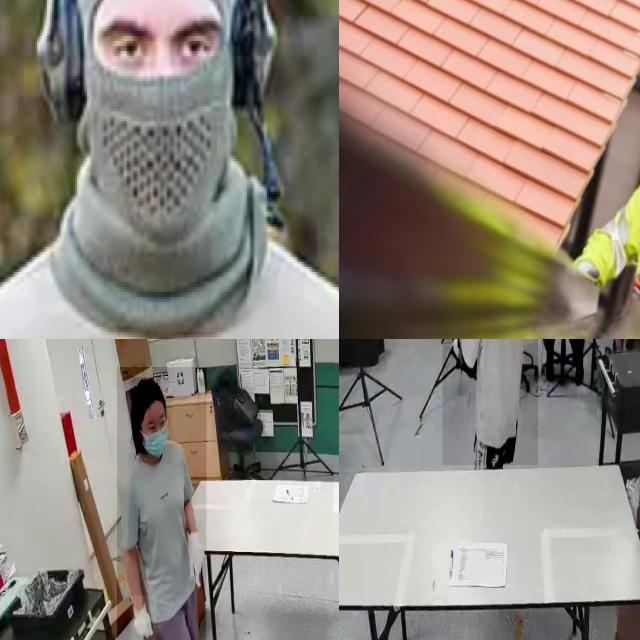Ear-protection: (35, 0, 283, 168)
face_mask: (141, 402, 172, 463)
hand_glove: (182, 521, 204, 587), (131, 595, 157, 640)
head_nohelmet: (131, 377, 165, 402)
person: (117, 367, 207, 640), (442, 339, 538, 466), (545, 339, 596, 384)
